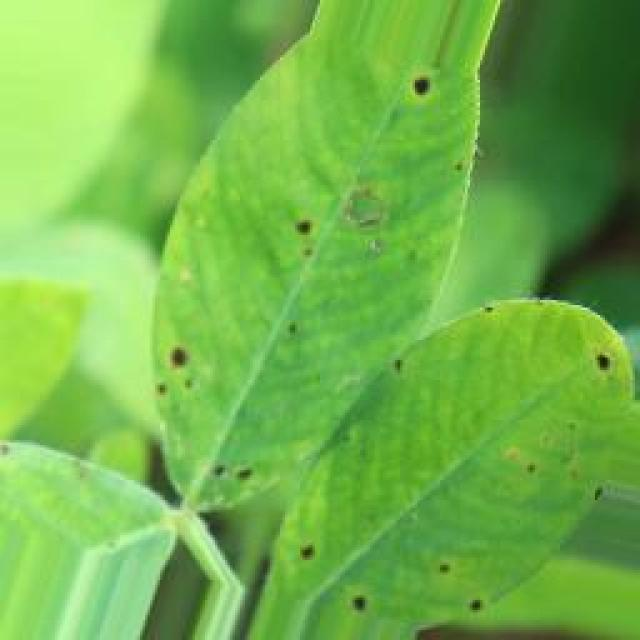Sigatoka: (475, 444, 639, 531), (120, 311, 190, 419), (551, 320, 629, 410), (194, 428, 276, 509), (406, 566, 495, 634), (398, 56, 461, 152), (264, 192, 340, 268), (368, 328, 442, 390), (332, 569, 387, 628), (443, 142, 493, 199), (276, 285, 313, 353), (483, 281, 521, 334), (288, 523, 322, 568)
